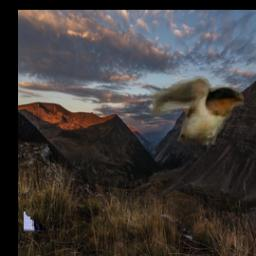Crow: (25, 123, 62, 231)
Swallow: (149, 76, 244, 145)
